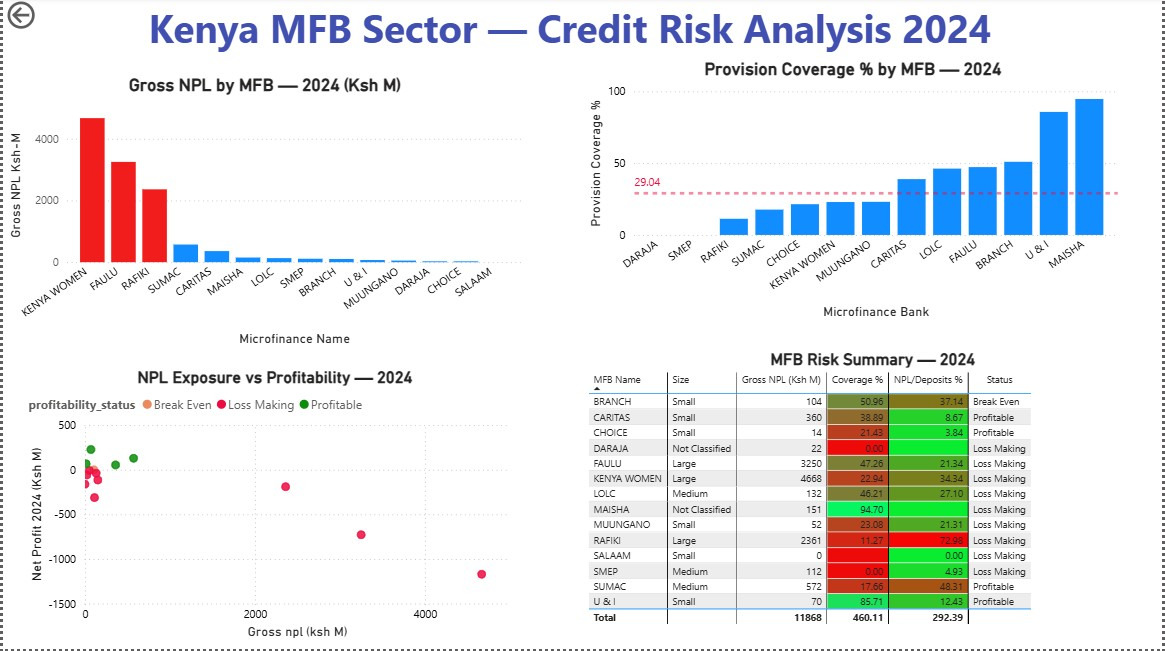

What the dashboard file says about the page in this screenshot:
{"tool":"powerbi","page":{"name":"Credit Risk Analysis","canvas":[1280,720],"ordinal":1},"visuals":[{"type":"textbox","box":[155,0,950.6,86.9],"z":0},{"type":"clusteredColumnChart","title":"Gross NPL by MFB — 2024 (Ksh M)","fields":{"Category":["kenya_mfb_2024 vw_mfb_dashboard.mfb_name"],"Y":["Sum(kenya_mfb_2024 vw_mfb_dashboard.gross_npl_ksh_m)"]},"box":[0,86.4,578,303.4],"z":1000},{"type":"clusteredColumnChart","title":"Provision Coverage % by MFB — 2024","fields":{"Category":["kenya_mfb_2024 vw_mfb_dashboard.mfb_name"],"Y":["Sum(kenya_mfb_2024 vw_mfb_dashboard.provision_coverage_pct)"]},"box":[640.7,67.8,594.9,291.5],"z":2000},{"type":"scatterChart","title":"NPL Exposure vs Profitability — 2024","fields":{"X":["Sum(kenya_mfb_2024 vw_mfb_dashboard.gross_npl_ksh_m)"],"Y":["Sum(kenya_mfb_2024 vw_mfb_dashboard.net_profit_2024_ksh_m)"],"Category":["kenya_mfb_2024 vw_mfb_dashboard.mfb_name"],"Series":["kenya_mfb_2024 vw_mfb_dashboard.profitability_status"]},"box":[23.7,408.5,554.2,303.4],"z":3000},{"type":"tableEx","title":"MFB Risk Summary — 2024","fields":{"Values":["kenya_mfb_2024 vw_mfb_dashboard.mfb_name","kenya_mfb_2024 vw_mfb_dashboard.mfb_size","Sum(kenya_mfb_2024 vw_mfb_dashboard.gross_npl_ksh_m)","Sum(kenya_mfb_2024 vw_mfb_dashboard.provision_coverage_pct)","Sum(kenya_mfb_2024 vw_mfb_dashboard.npl_to_deposits_pct)","kenya_mfb_2024 vw_mfb_dashboard.profitability_status"]},"box":[640.7,389.8,639,328.8],"z":4000},{"type":"actionButton","box":[0,0,100,40],"z":5000}]}

Visuals, with their boxes in screenshot pixels (x1, y1, x2, y2), scaled from the page's 1280x720 canvas onto the 1165x651 screenshot:
textbox: <bbox>141, 0, 1006, 79</bbox>
"Gross NPL by MFB — 2024 (Ksh M)" clusteredColumnChart: <bbox>0, 78, 526, 352</bbox>
"Provision Coverage % by MFB — 2024" clusteredColumnChart: <bbox>583, 61, 1125, 325</bbox>
"NPL Exposure vs Profitability — 2024" scatterChart: <bbox>22, 369, 526, 644</bbox>
"MFB Risk Summary — 2024" tableEx: <bbox>583, 352, 1164, 650</bbox>
actionButton: <bbox>0, 0, 91, 36</bbox>
